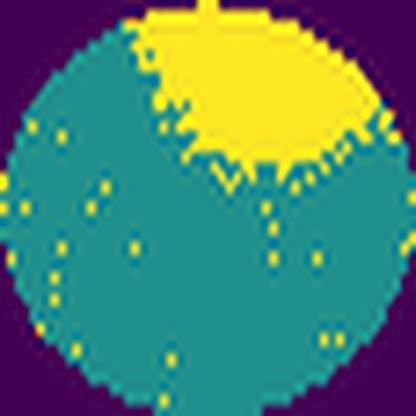Edge-Loc: (118, 0, 404, 192)
